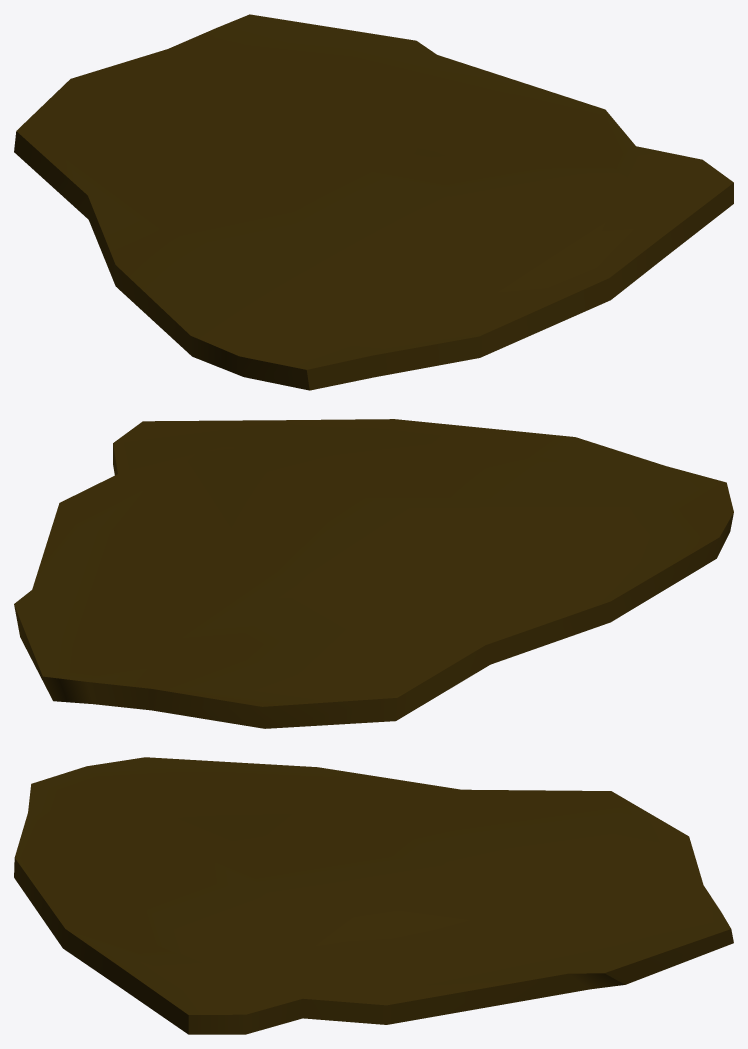
The model's file is oil.fbx.
3 renders of one model, top to bottom at view 1: azimuth 30°, elevation 25°; view 2: azimuth 150°, elevation 25°; view 3: azimuth 270°, elevation 25°, orthographic. The views are drawn at different scales.
Visible parts, largest first — view 1: pCube1; view 2: pCube1; view 3: pCube1.
Part boxes in pixels (x1=…): pCube1: x1=14, y1=14, x2=733, y2=390; pCube1: x1=14, y1=419, x2=733, y2=728; pCube1: x1=14, y1=757, x2=733, y2=1034.
Bounding box in the file's own units: 38.63 × 2.37 × 45.96.
